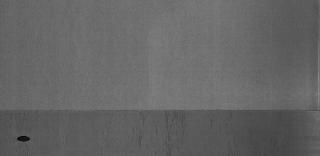punching hole: (15, 133, 35, 143)
welding line: (3, 106, 319, 116)
